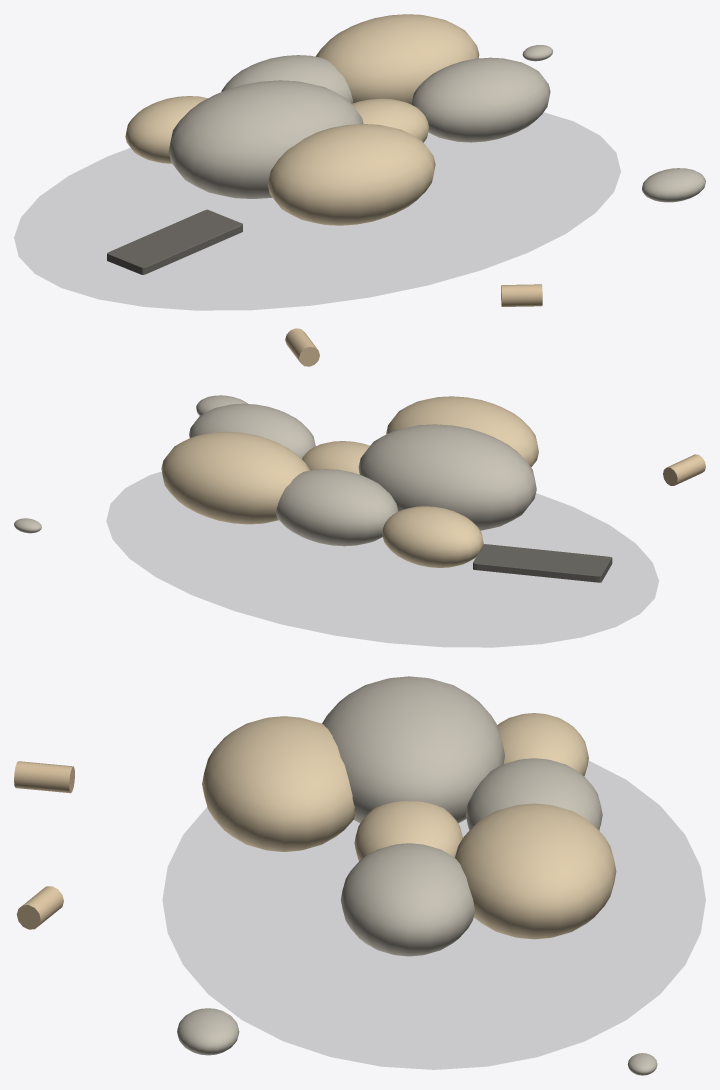
The model's file is rubble_rock.glb.
3 renders of one model, top to bottom at view 1: azimuth 30°, elevation 25°; view 2: azimuth 150°, elevation 25°; view 3: azimuth 270°, elevation 25°, orthographic. The views are drawn at different scales.
Visible parts, largest first — view 1: painted_contact_shadow, angular_wasteland_rock_3, angular_wasteland_rock_6, angular_wasteland_rock_2, angular_wasteland_rock_5, loose_scrap_flake_3, angular_wasteland_rock_0, angular_wasteland_rock_1, angular_wasteland_rock_4, ground_pebble_detail_2, discarded_bolt_detail_1, discarded_bolt_detail_4; view 2: painted_contact_shadow, angular_wasteland_rock_3, angular_wasteland_rock_2, angular_wasteland_rock_1, angular_wasteland_rock_0, angular_wasteland_rock_6, loose_scrap_flake_3, angular_wasteland_rock_5, angular_wasteland_rock_4, discarded_bolt_detail_4, ground_pebble_detail_2; view 3: painted_contact_shadow, angular_wasteland_rock_3, angular_wasteland_rock_2, angular_wasteland_rock_6, angular_wasteland_rock_5, angular_wasteland_rock_1, angular_wasteland_rock_4, angular_wasteland_rock_0, ground_pebble_detail_2, discarded_bolt_detail_4, discarded_bolt_detail_1.
Boxes of the visible parts, x1,y1,x2,y2 form: painted_contact_shadow: (14,113,620,309); angular_wasteland_rock_3: (168,80,363,198); angular_wasteland_rock_6: (268,124,435,225); angular_wasteland_rock_2: (315,14,479,104); angular_wasteland_rock_5: (411,57,550,142); loose_scrap_flake_3: (107,209,242,274); angular_wasteland_rock_0: (125,96,207,163); angular_wasteland_rock_1: (221,55,352,103); angular_wasteland_rock_4: (352,98,429,142); ground_pebble_detail_2: (642,168,705,202); discarded_bolt_detail_1: (501,284,542,306); discarded_bolt_detail_4: (285,328,319,366); painted_contact_shadow: (107,472,658,646); angular_wasteland_rock_3: (358,424,536,530); angular_wasteland_rock_2: (161,431,310,524); angular_wasteland_rock_1: (276,469,398,546); angular_wasteland_rock_0: (382,506,483,567); angular_wasteland_rock_6: (386,396,538,467); loose_scrap_flake_3: (473,544,612,582); angular_wasteland_rock_5: (189,403,315,458); angular_wasteland_rock_4: (302,441,369,474); discarded_bolt_detail_4: (663,454,705,485); ground_pebble_detail_2: (196,395,247,415); painted_contact_shadow: (163,761,705,1069); angular_wasteland_rock_3: (322,676,504,823); angular_wasteland_rock_2: (455,803,616,939); angular_wasteland_rock_6: (202,716,354,851); angular_wasteland_rock_5: (340,843,474,956); angular_wasteland_rock_1: (465,758,602,830); angular_wasteland_rock_4: (354,801,462,860); angular_wasteland_rock_0: (497,713,588,775); ground_pebble_detail_2: (177,1008,239,1055); discarded_bolt_detail_4: (14,761,74,793); discarded_bolt_detail_1: (16,886,63,929).
Size of the model in its own units: 1.57 by 0.3364 by 1.27.
